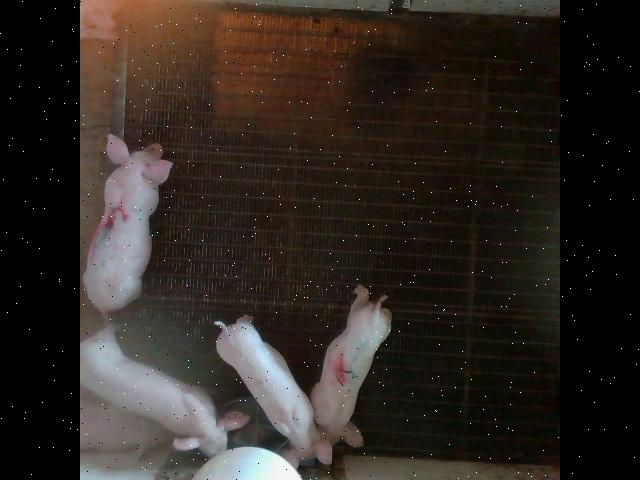pig-3: (84, 134, 172, 311)
pig-4: (311, 284, 391, 446)
